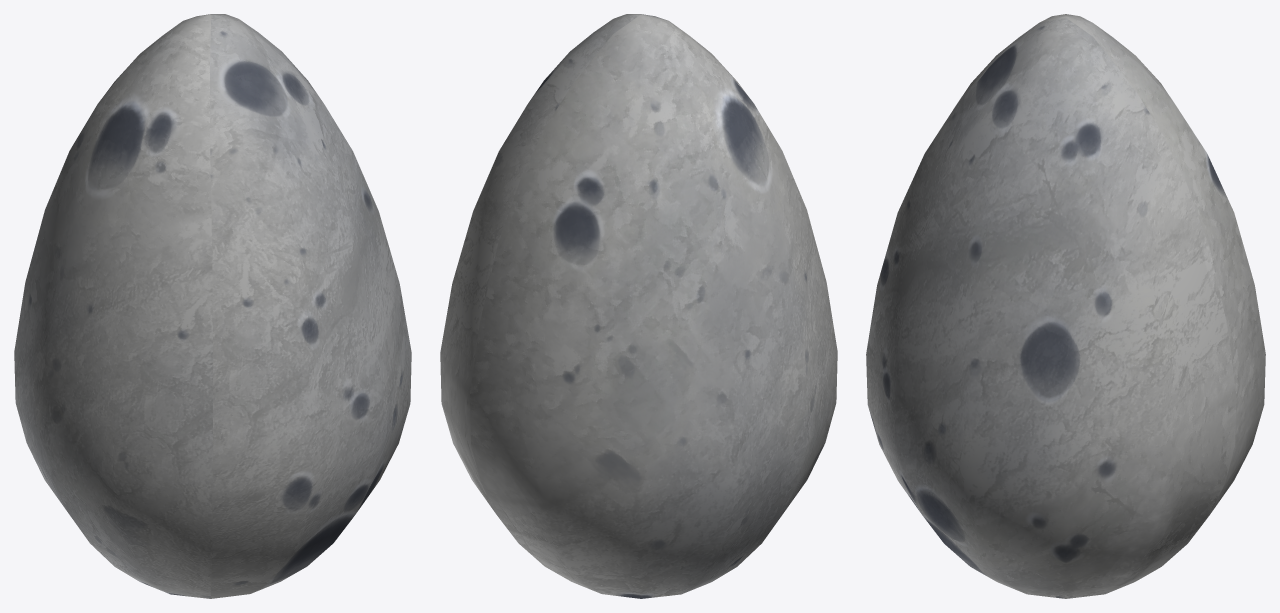
File: rockN.fbx
3 renders of one model, left to right at view 1: azimuth 30°, elevation 25°; view 2: azimuth 150°, elevation 25°; view 3: azimuth 270°, elevation 25°, orthographic.
Parts seen in each view (by area): view 1: pCone1; view 2: pCone1; view 3: pCone1.
Boxes of the visible parts, x1=… form: pCone1: x1=14, y1=14, x2=411, y2=598; pCone1: x1=440, y1=14, x2=837, y2=598; pCone1: x1=866, y1=14, x2=1265, y2=598.
Size of the model in its own units: 163 by 261 by 168.
1 material, 1 textured.
